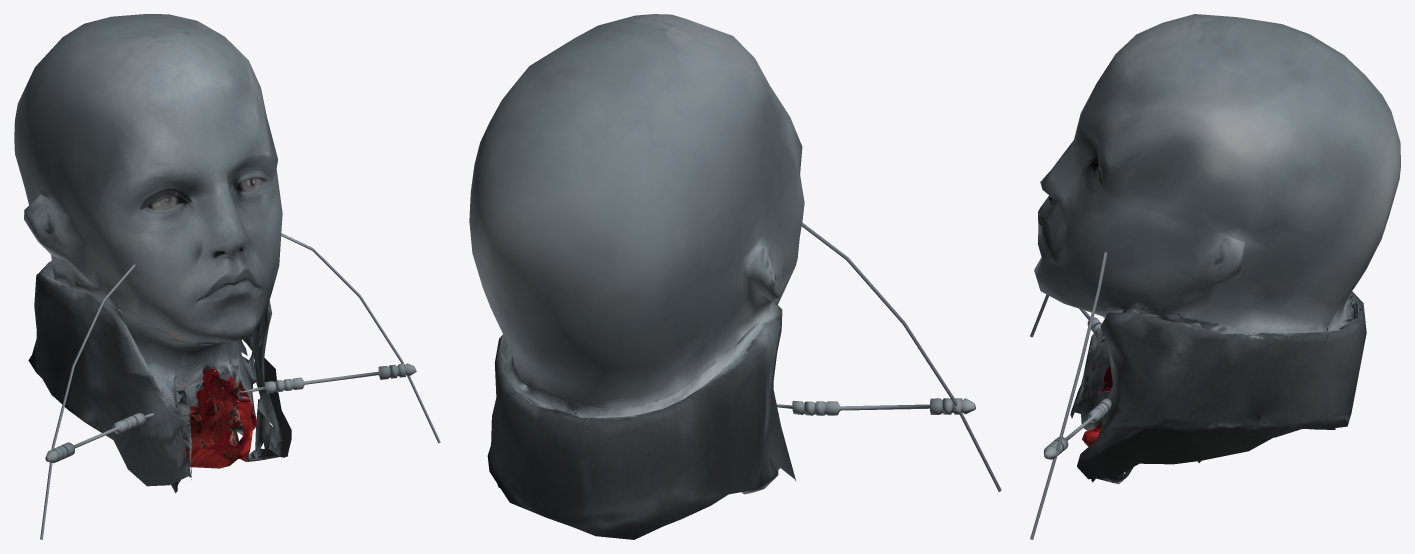
The model's file is WorldItem_Hellraiser_OpenThroat.fbx.
The picture shows the model from 3 angles, left to right: view 1: azimuth 30°, elevation 25°; view 2: azimuth 150°, elevation 25°; view 3: azimuth 270°, elevation 25°; orthographic projection. The views are drawn at different scales.
Visible parts, largest first — view 1: OpenThroat; view 2: OpenThroat; view 3: OpenThroat.
Part boxes in pixels (bbox=[...]): OpenThroat: bbox=[14, 14, 440, 539]; OpenThroat: bbox=[469, 14, 1001, 539]; OpenThroat: bbox=[1030, 14, 1400, 539].
Size of the model in its own units: 0.2206 by 0.2172 by 0.1691.
